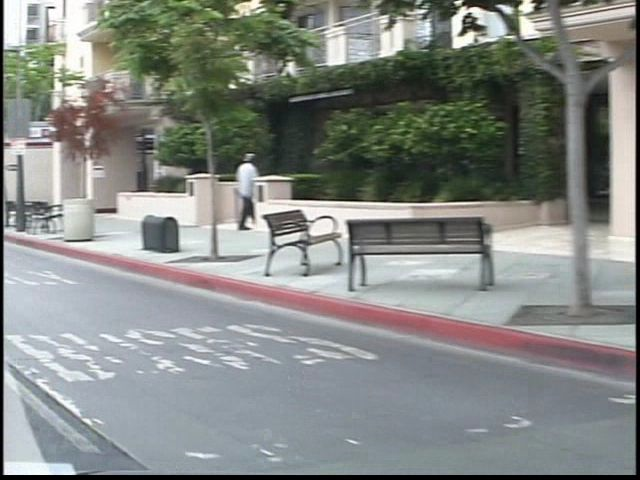person: (213, 146, 245, 237)
